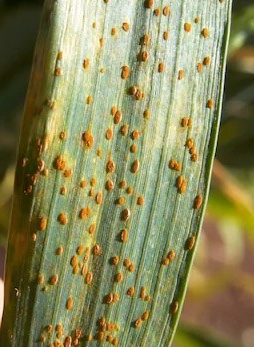Leaf Rust: (21, 60, 205, 347)
